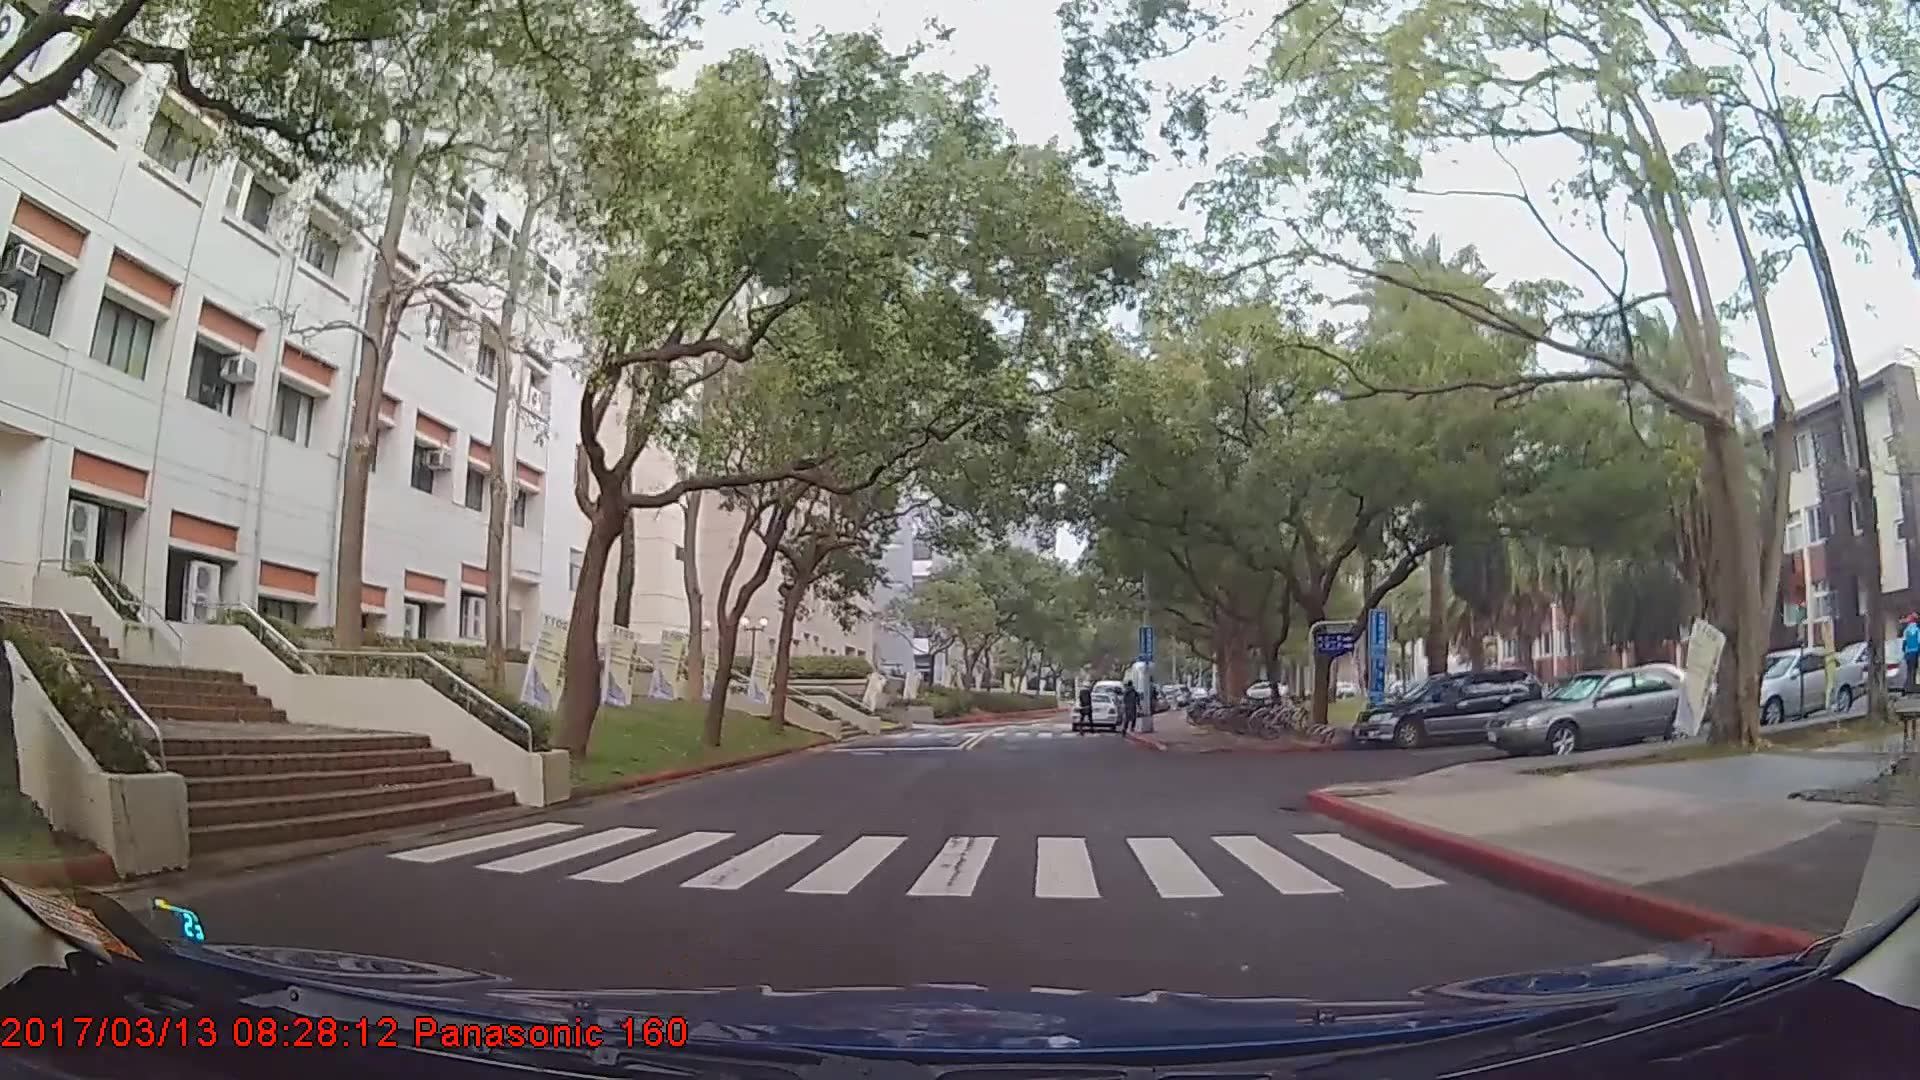pedestrian: (1892, 606, 1916, 702), (1121, 681, 1146, 732), (1079, 683, 1099, 736)
vehicle: (1486, 662, 1716, 760), (1351, 665, 1540, 749), (1731, 646, 1869, 727), (1067, 691, 1118, 732)
